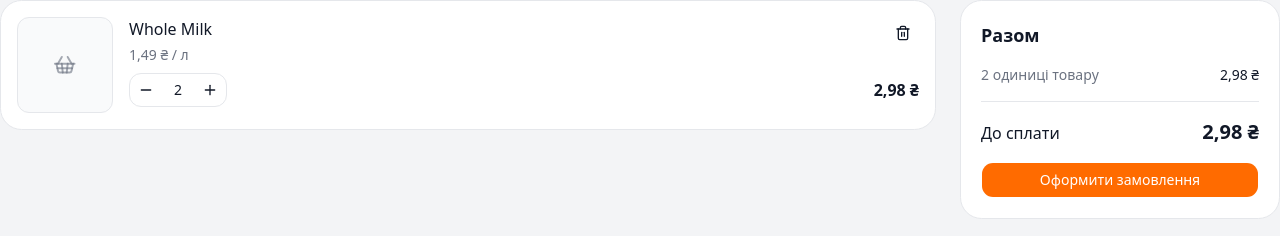
Test: CartView › changes quantity through the API and shows the server cart
Click the button named "Збільшити кількість" at [210, 90], box [194,74,226,106]
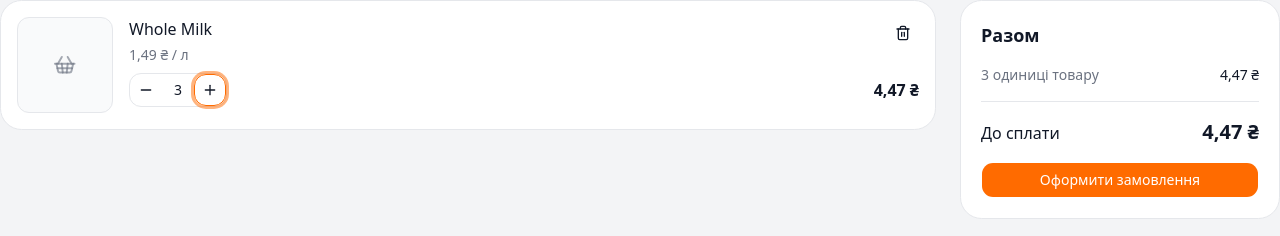
Expected: the text "3" is shown, [174,80,182,99]
Expected: the 2nd text "4,47 ₴" is shown, [874,78,919,102]
